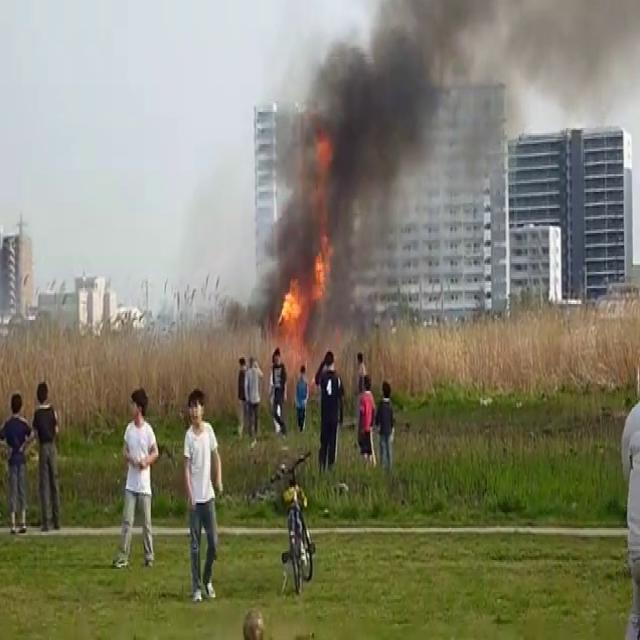Fire: (279, 220, 339, 344)
Smoke: (253, 0, 465, 309), (457, 0, 634, 155)
